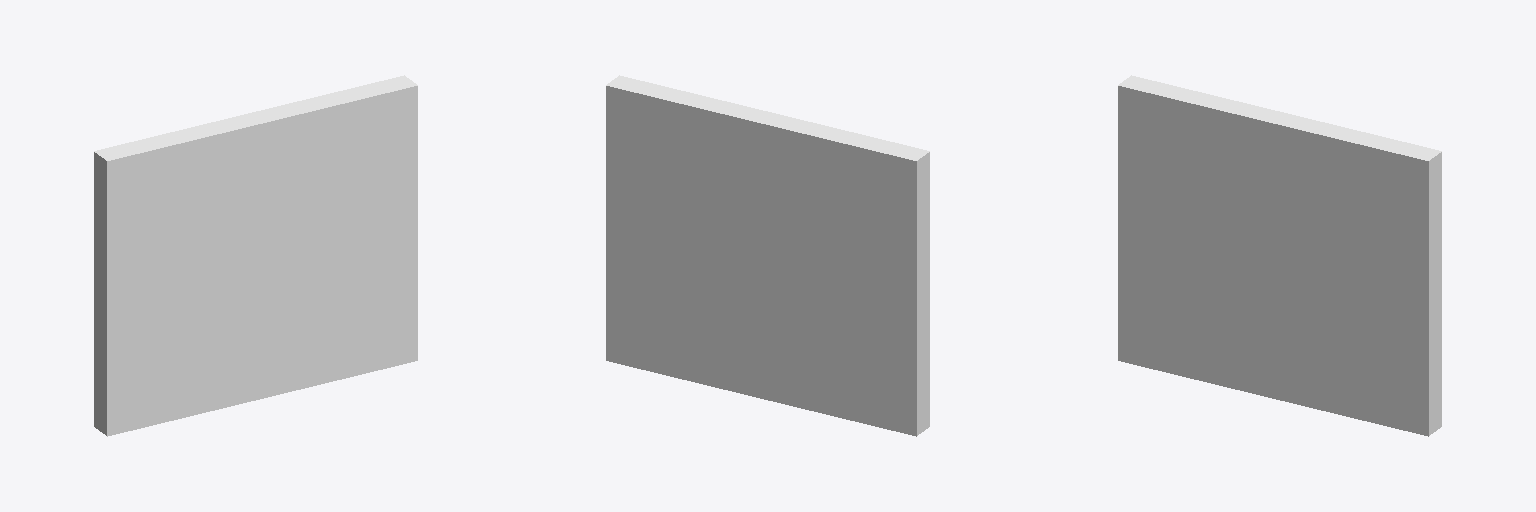
File: BontonVolver.obj
3 renders of one model, left to right at view 1: azimuth 30°, elevation 25°; view 2: azimuth 150°, elevation 25°; view 3: azimuth 330°, elevation 25°, orthographic.
Parts seen in each view (by area): view 1: object 1; view 2: object 1; view 3: object 1.
Boxes of the visible parts, box(x1,y1,x2,y2) form: object 1: box(94, 75, 417, 436); object 1: box(606, 75, 929, 436); object 1: box(1118, 75, 1441, 436).
Bounding box in the file's own units: 1.3 × 1.1 × 0.1.